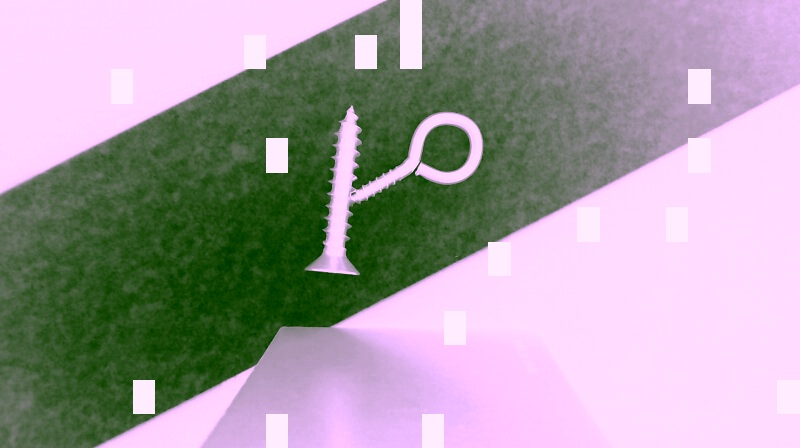O001: (347, 111, 484, 209)
S001: (299, 104, 361, 275)
